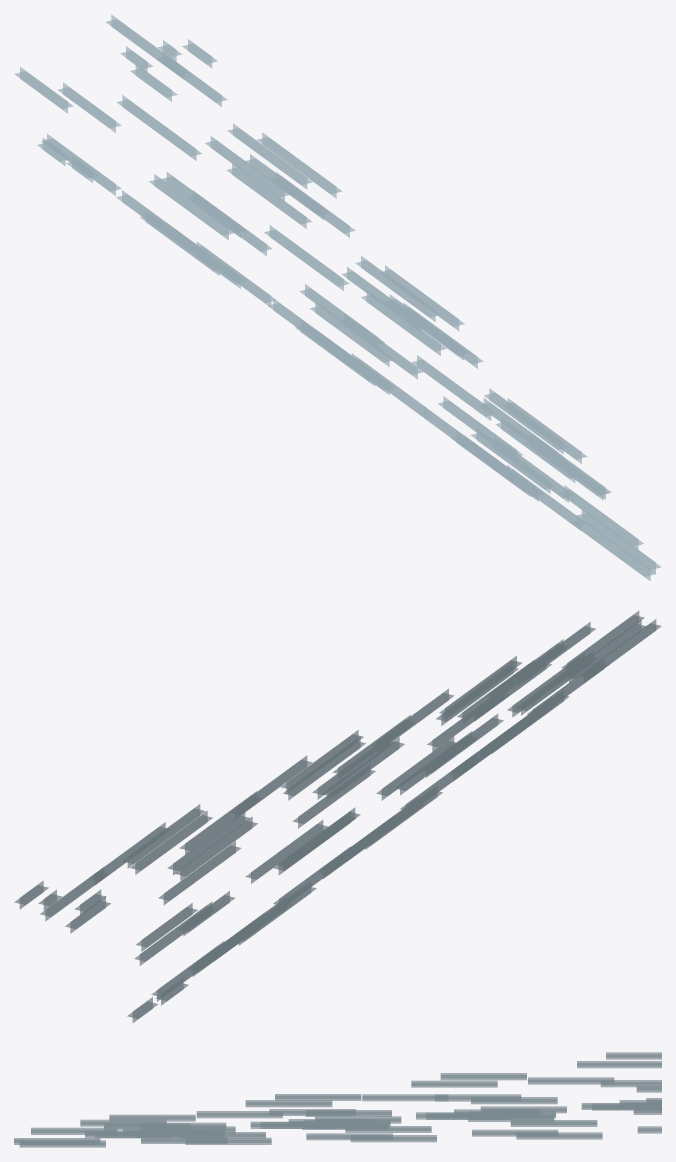
File: wp_water_322.obj
The picture shows the model from 3 angles, top to bottom: view 1: azimuth 30°, elevation 25°; view 2: azimuth 150°, elevation 25°; view 3: azimuth 270°, elevation 25°; orthographic projection. The views are drawn at different scales.
Bounding box in the file's own units: 0.3346 × 0.274 × 1.8.
Materials: 1 (1 with a texture image).
